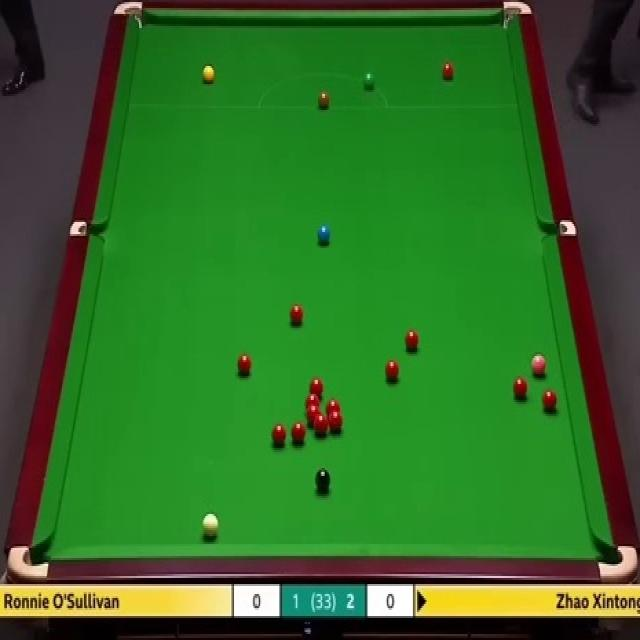pocket: (597, 542, 640, 582), (5, 545, 50, 583), (111, 0, 143, 29), (502, 0, 530, 31), (541, 220, 576, 237), (68, 221, 102, 237)
